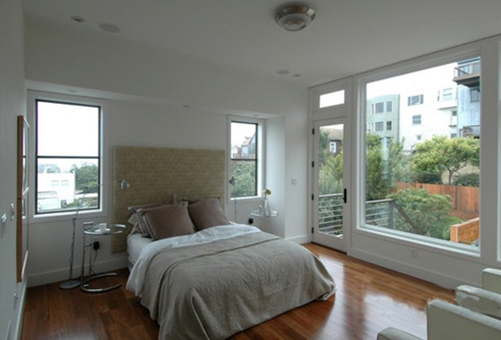床: (121, 220, 327, 332)
枕头: (127, 197, 230, 240)
灯: (270, 3, 317, 34), (66, 15, 86, 25)
